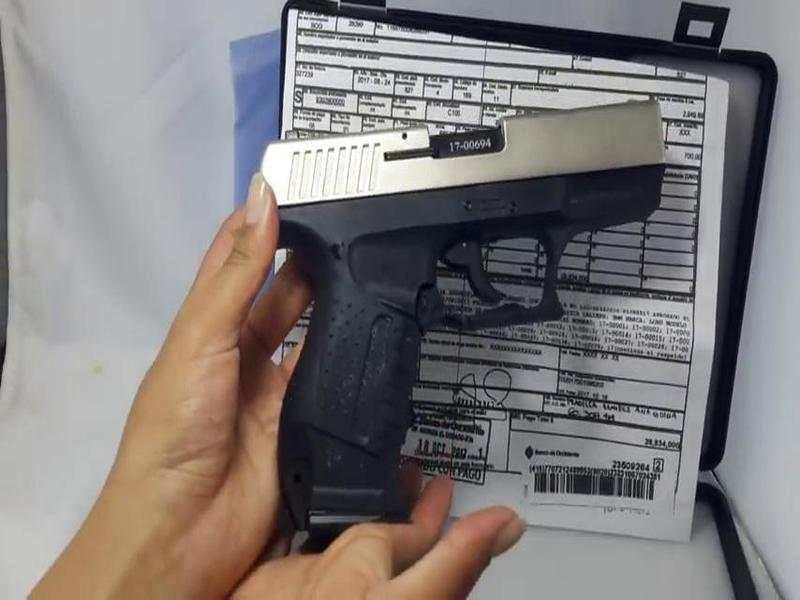Pistola: (241, 97, 673, 536)
